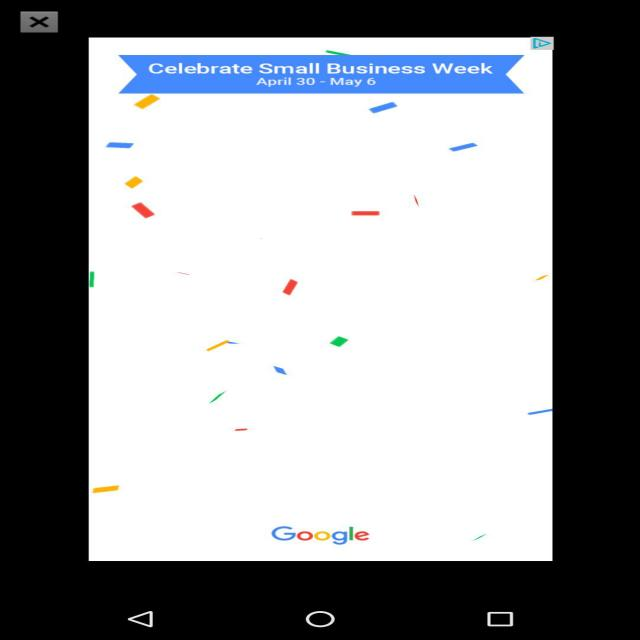button: (83, 31, 609, 549), (11, 6, 70, 32)
